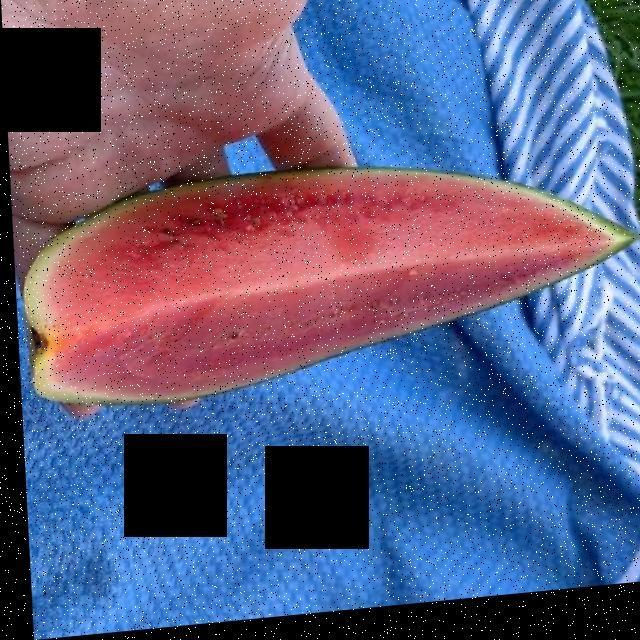watermelon: (40, 177, 609, 408)
